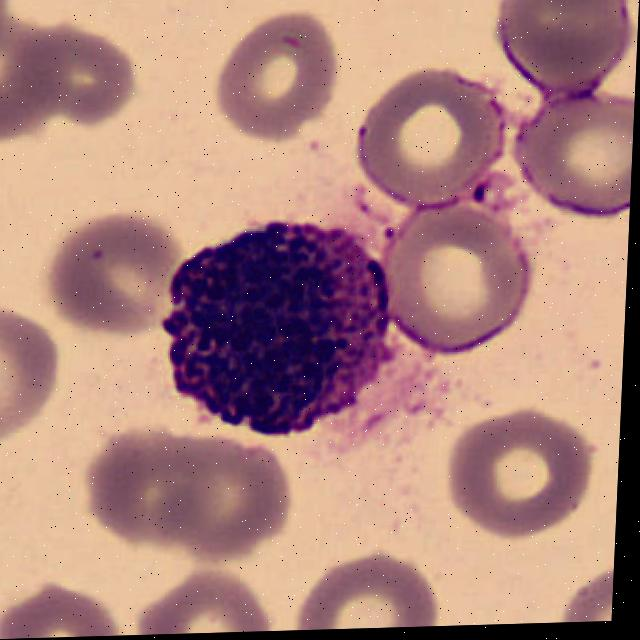basophil: (151, 209, 404, 443)
rbc: (373, 203, 539, 349), (346, 62, 510, 209), (433, 403, 596, 537), (504, 80, 635, 246), (34, 204, 188, 341), (205, 3, 346, 148), (154, 435, 303, 564), (83, 430, 232, 556), (473, 0, 640, 98), (2, 18, 140, 131), (292, 543, 440, 631), (0, 0, 74, 145), (137, 561, 278, 635), (0, 567, 129, 639), (0, 301, 63, 448), (535, 560, 614, 622)
